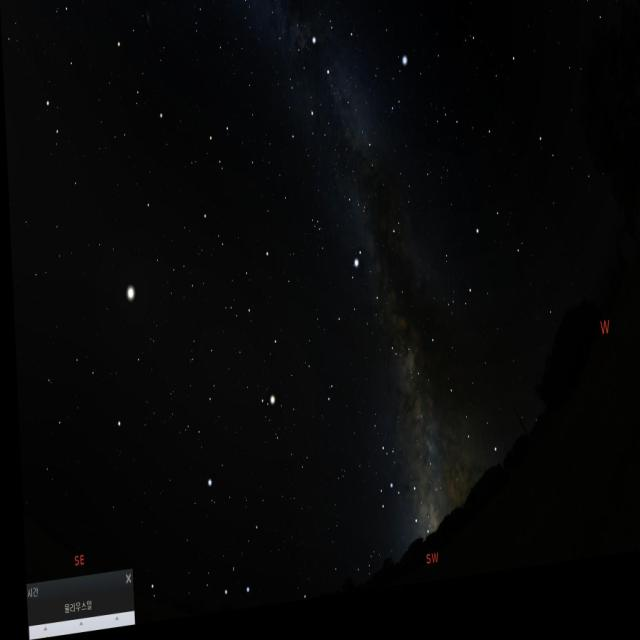aquila: (321, 252, 406, 384)
cygnus: (306, 34, 379, 210)
lyra: (382, 61, 411, 132)
